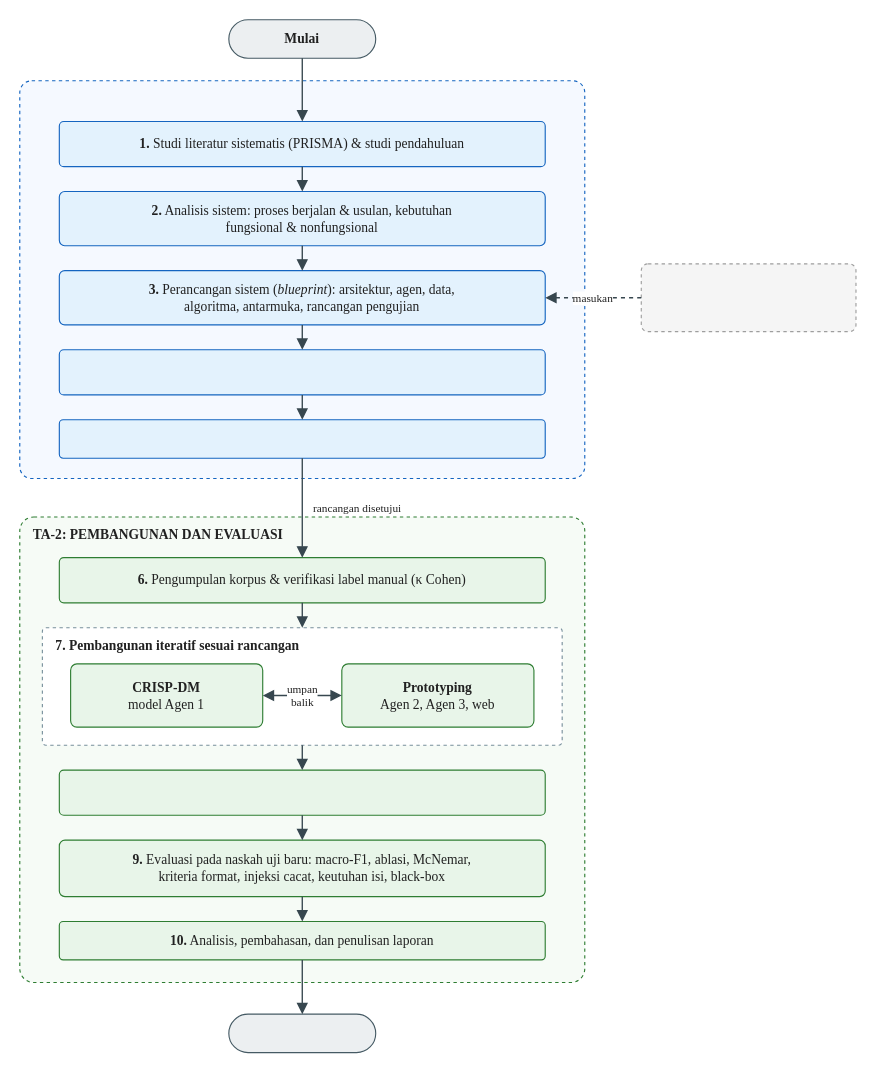
Some shapes in this 876 by 1072 pixel diagram are drawn without their labels. The box of each missing label's shape, as (x1, y1, x2, y2) in pixels:
4. Pedoman anotasi & rencana korpus (izin, anonimisasi, pembagian): (58, 349, 545, 395)
5. Seminar proposal: validasi rancangan: (58, 419, 545, 458)
8. Pembekuan sistem: model, aturan, dan template dikunci: (58, 769, 545, 815)
Prototipe pembuktian konsep (Kapita Selekta): menguji kelayakan teknis rancangan: (640, 263, 856, 332)
Selesai: (228, 1013, 376, 1053)
TA-1: PERANCANGAN (proposal ini): (19, 80, 585, 479)
